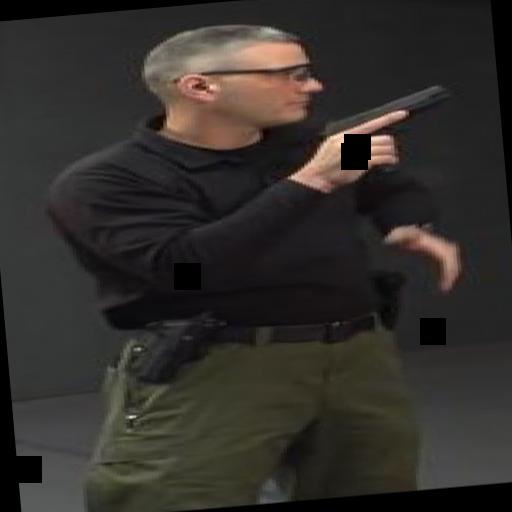Handgun: (312, 82, 462, 172)
